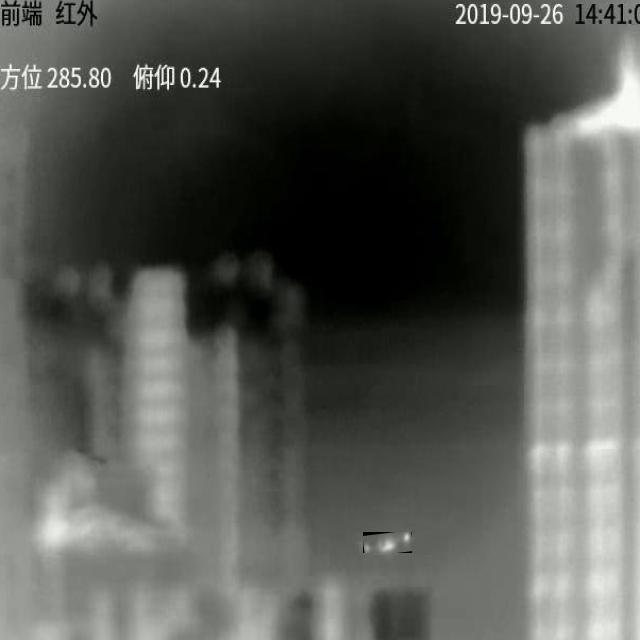drone: (364, 532, 411, 553)
